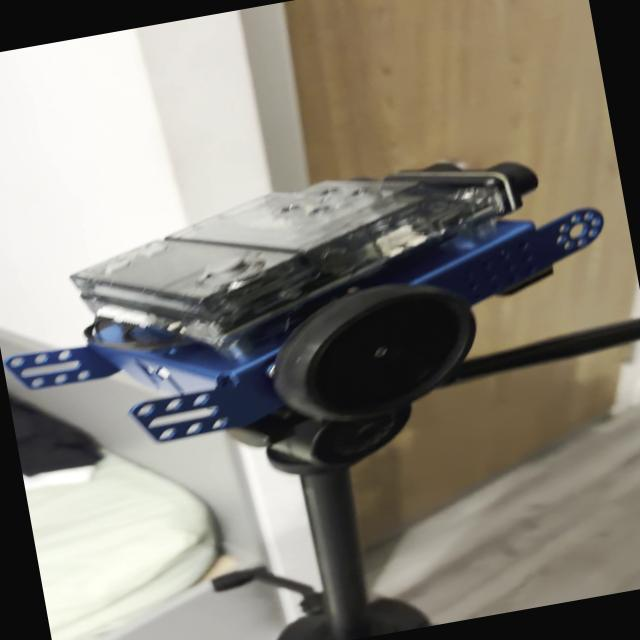mbot-detection: (0, 117, 640, 490)
